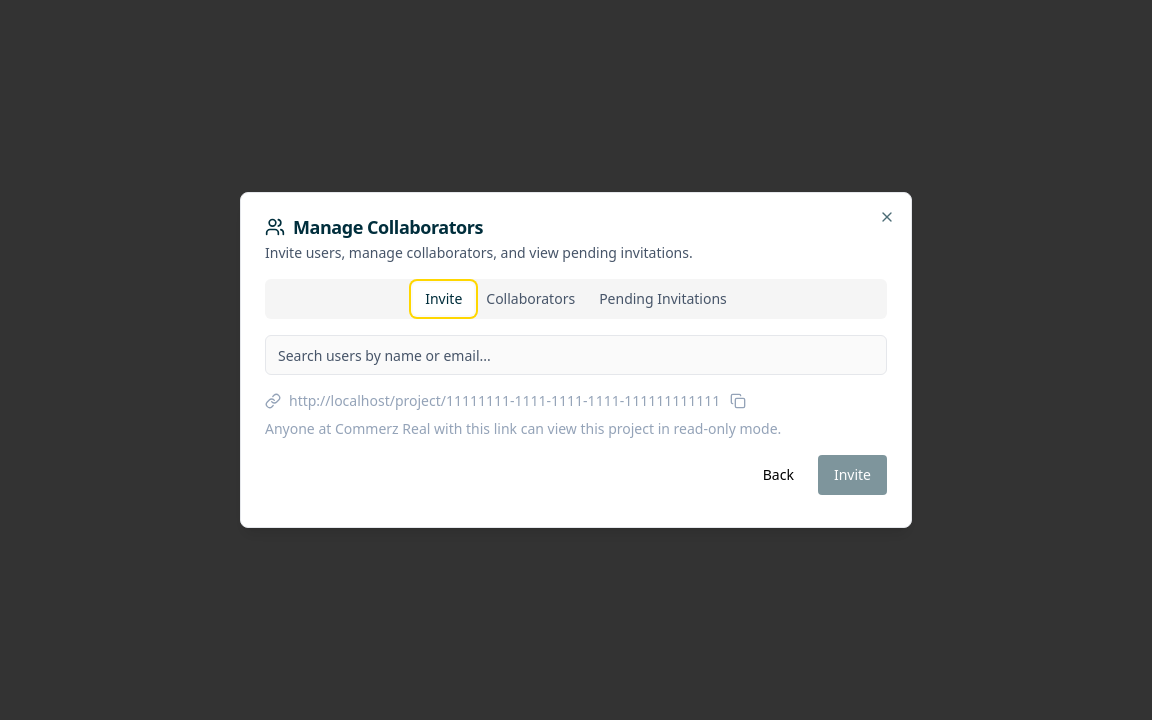
Test: T-8.4.07: Single owner leave disabled › shows disabled Leave button with tooltip for single owner
The width and height of the screenshot is (1152, 720).
Click the tab with test id "tab-collaborators". click: [531, 299]
box: [474,283,587,315]
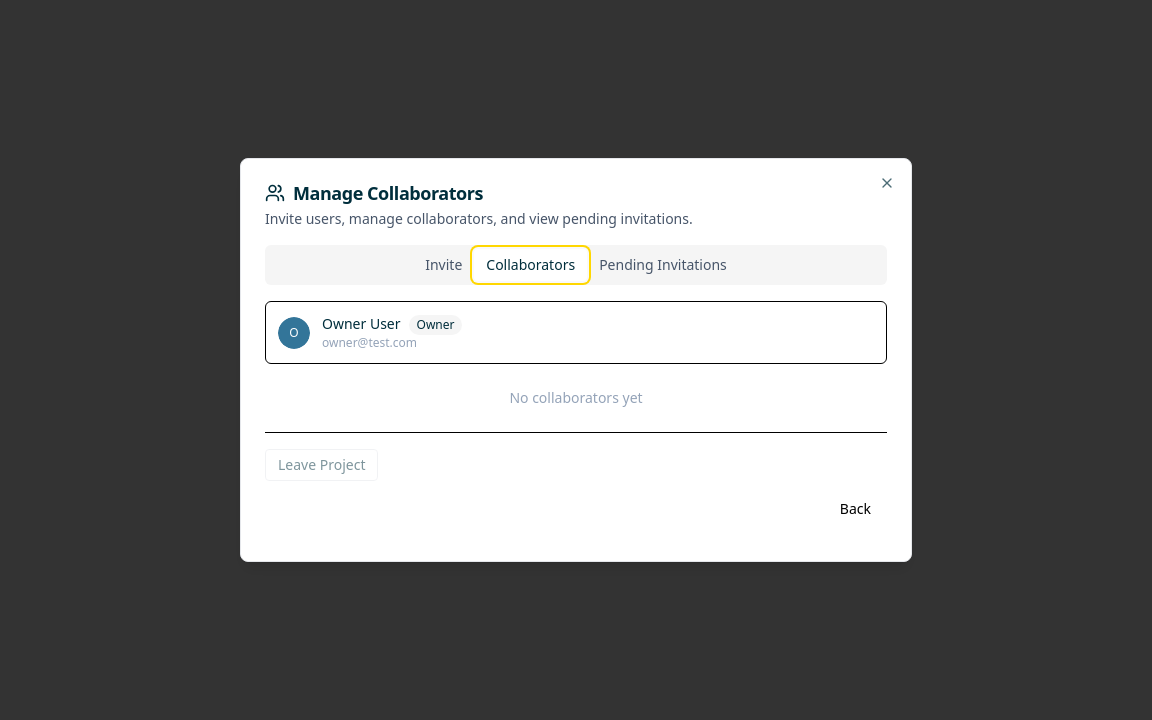
Expected: the element with test id "collaborators-tab" is shown, [265,293,887,537]
Expected: the button with test id "leave-button" is disabled, [265,449,378,481]
